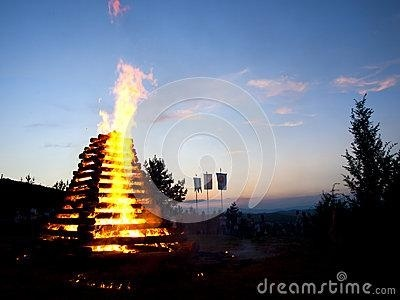fire: (49, 50, 167, 259), (108, 0, 122, 16)
